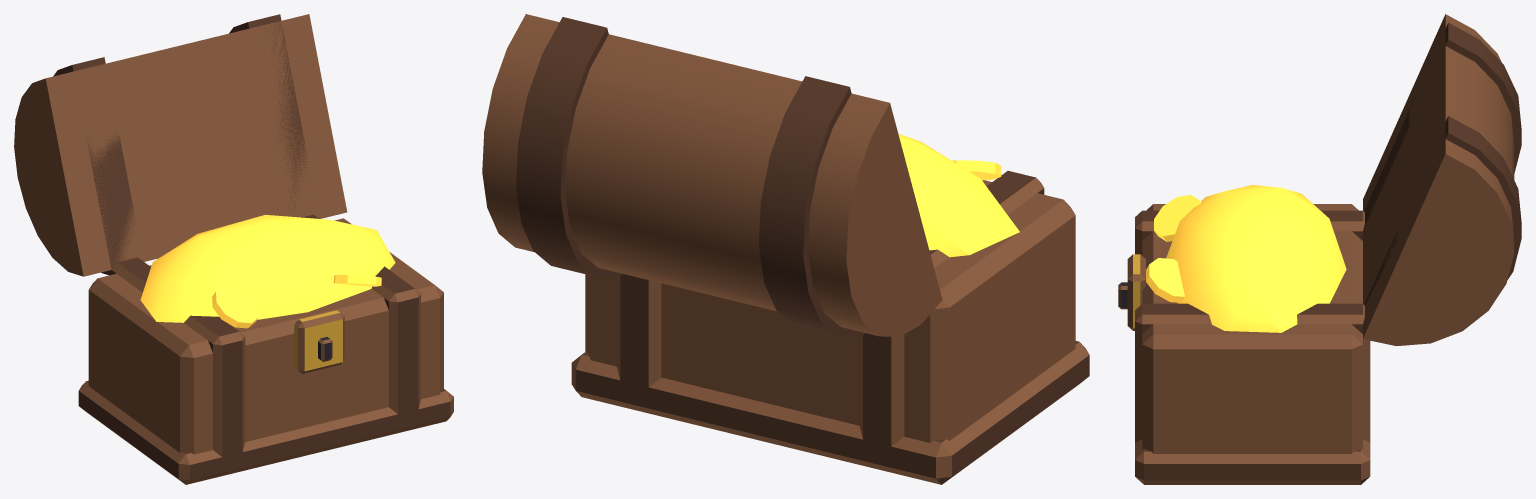
File: treasure_chest.glb
The picture shows the model from 3 angles, left to right: view 1: azimuth 30°, elevation 25°; view 2: azimuth 150°, elevation 25°; view 3: azimuth 270°, elevation 25°; orthographic projection. The views are drawn at different scales.
Visible parts, largest first — view 1: treasure_chest; view 2: treasure_chest; view 3: treasure_chest.
Boxes of the visible parts, <box> form: treasure_chest: <box>14,14,453,484</box>; treasure_chest: <box>482,14,1089,484</box>; treasure_chest: <box>1118,14,1521,484</box>.
Size of the model in its own units: 0.94 by 1.01 by 1.1.
